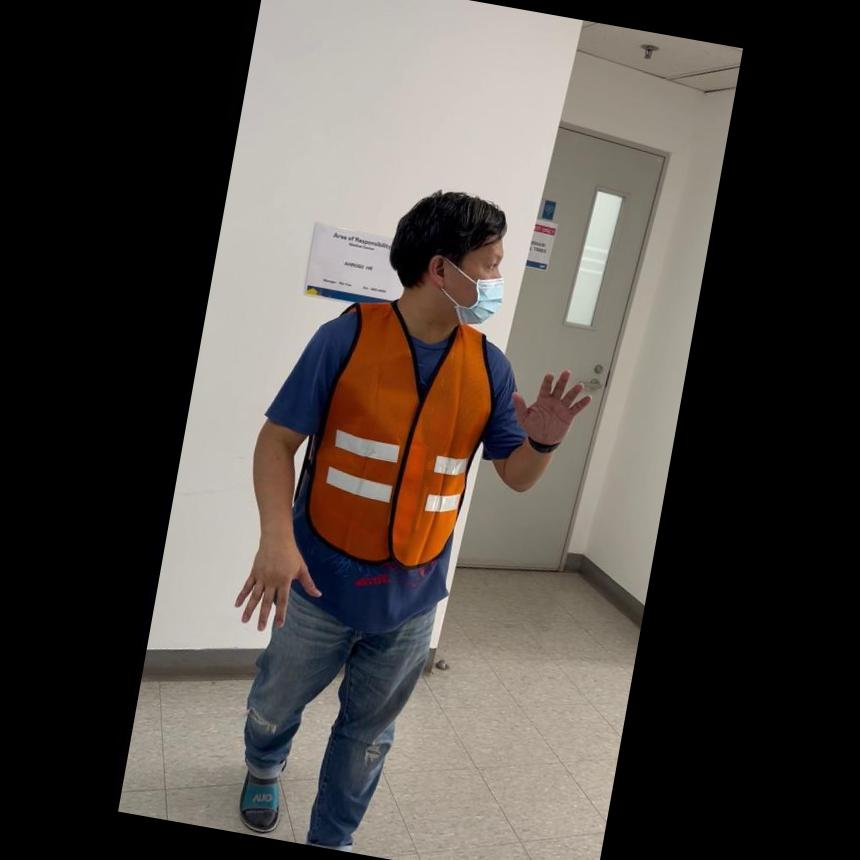No-gloves: (228, 530, 322, 636), (506, 354, 594, 454)
